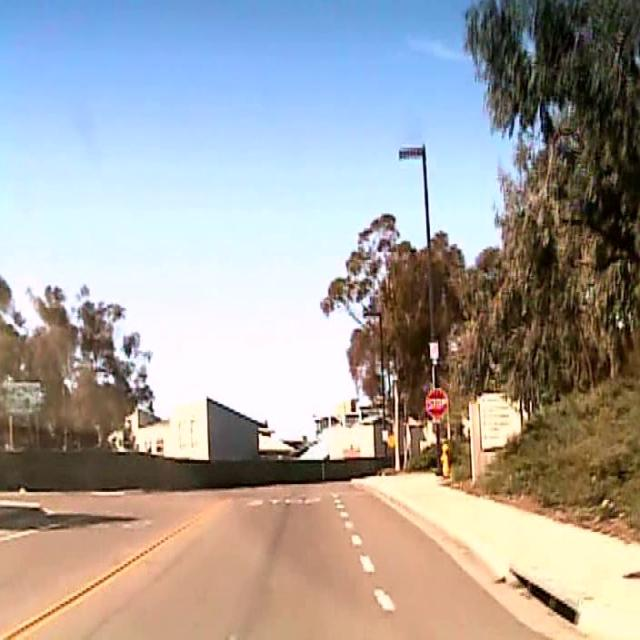stop_sign: (426, 387, 448, 417)
